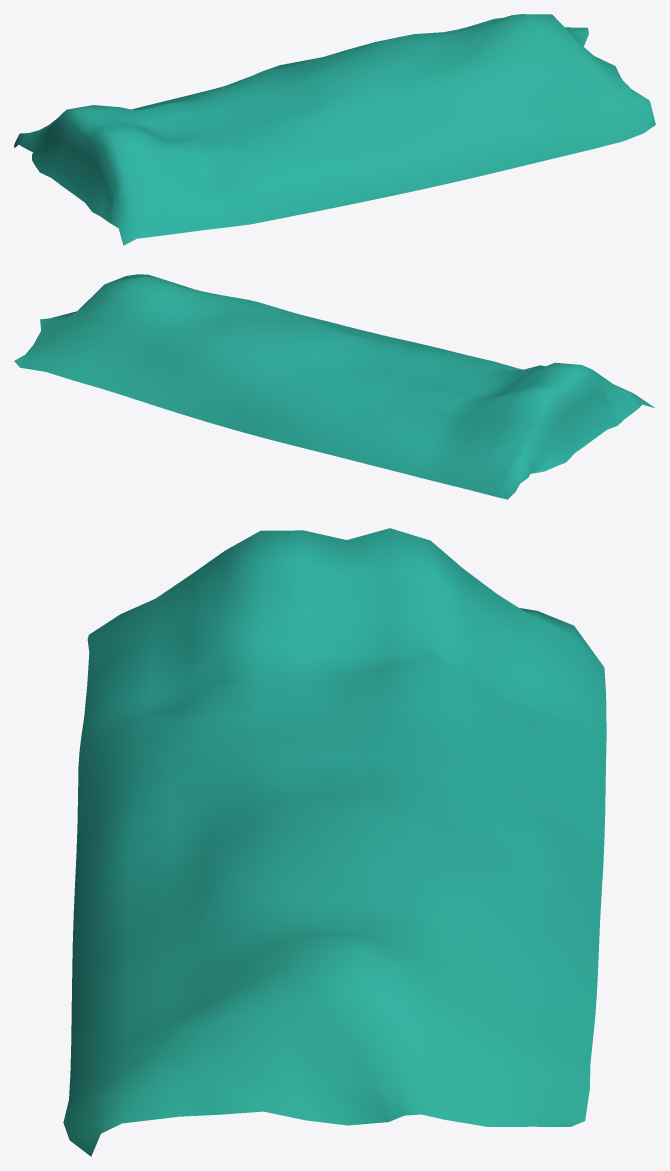
The model's file is Dead_body.fbx.
3 views of the same model, one above another, from view 1: azimuth 30°, elevation 25°; view 2: azimuth 150°, elevation 25°; view 3: azimuth 270°, elevation 25° (orthographic). The views are drawn at different scales.
Visible parts, largest first — view 1: Dead_body; view 2: Dead_body; view 3: Dead_body.
Boxes of the visible parts, x1=… form: Dead_body: x1=14, y1=14, x2=655, y2=245; Dead_body: x1=14, y1=274, x2=655, y2=499; Dead_body: x1=63, y1=528, x2=606, y2=1156.
Bounding box in the file's own units: 382 × 55.77 × 169.
Materials: 1 (1 with a texture image).
